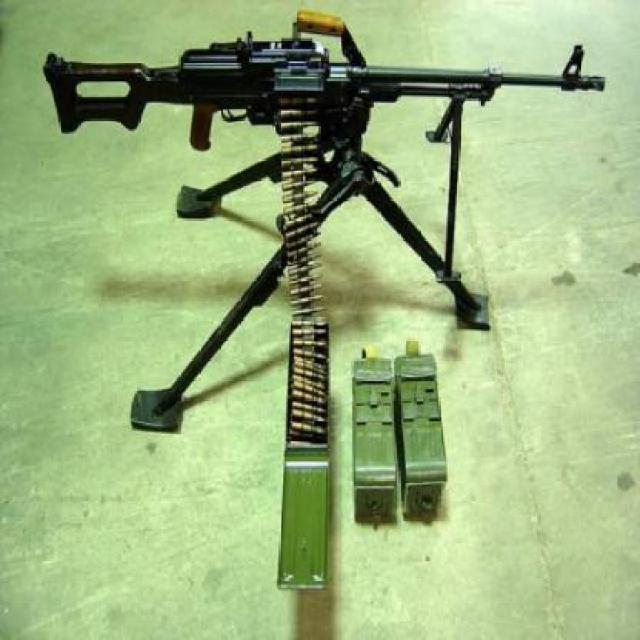weapon: (30, 9, 607, 157)
